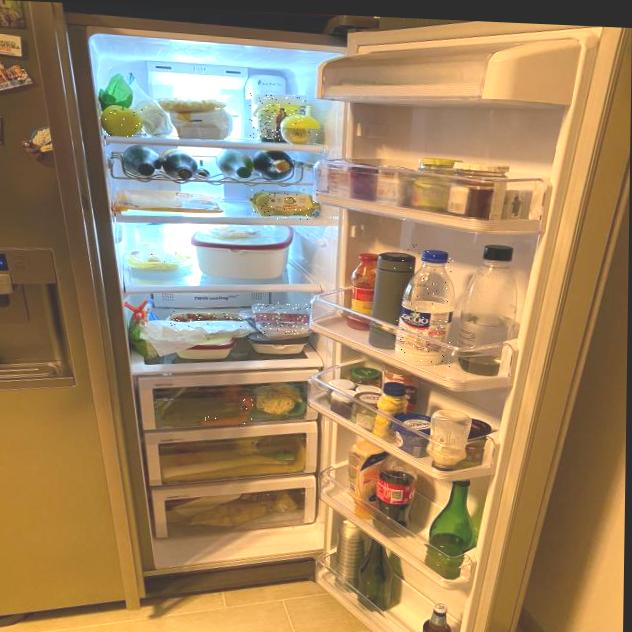apple: (97, 103, 148, 139)
carrots: (199, 415, 253, 428)
cheese: (137, 242, 169, 264)
eggs: (248, 187, 318, 221)
ham: (253, 301, 311, 336)
lemon: (280, 126, 318, 144)
milk: (392, 243, 454, 368)
tomatoes: (168, 311, 250, 329), (237, 393, 255, 412)
yoghurt: (249, 93, 306, 143)
